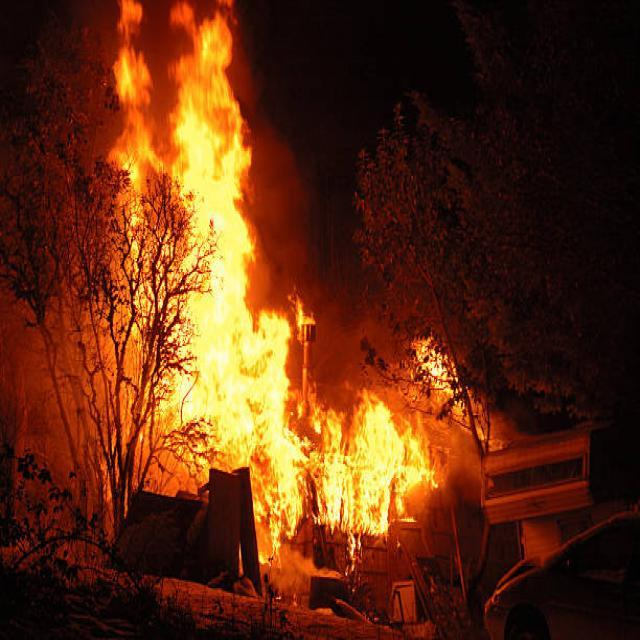Fire: (110, 0, 312, 556), (309, 394, 449, 538)
